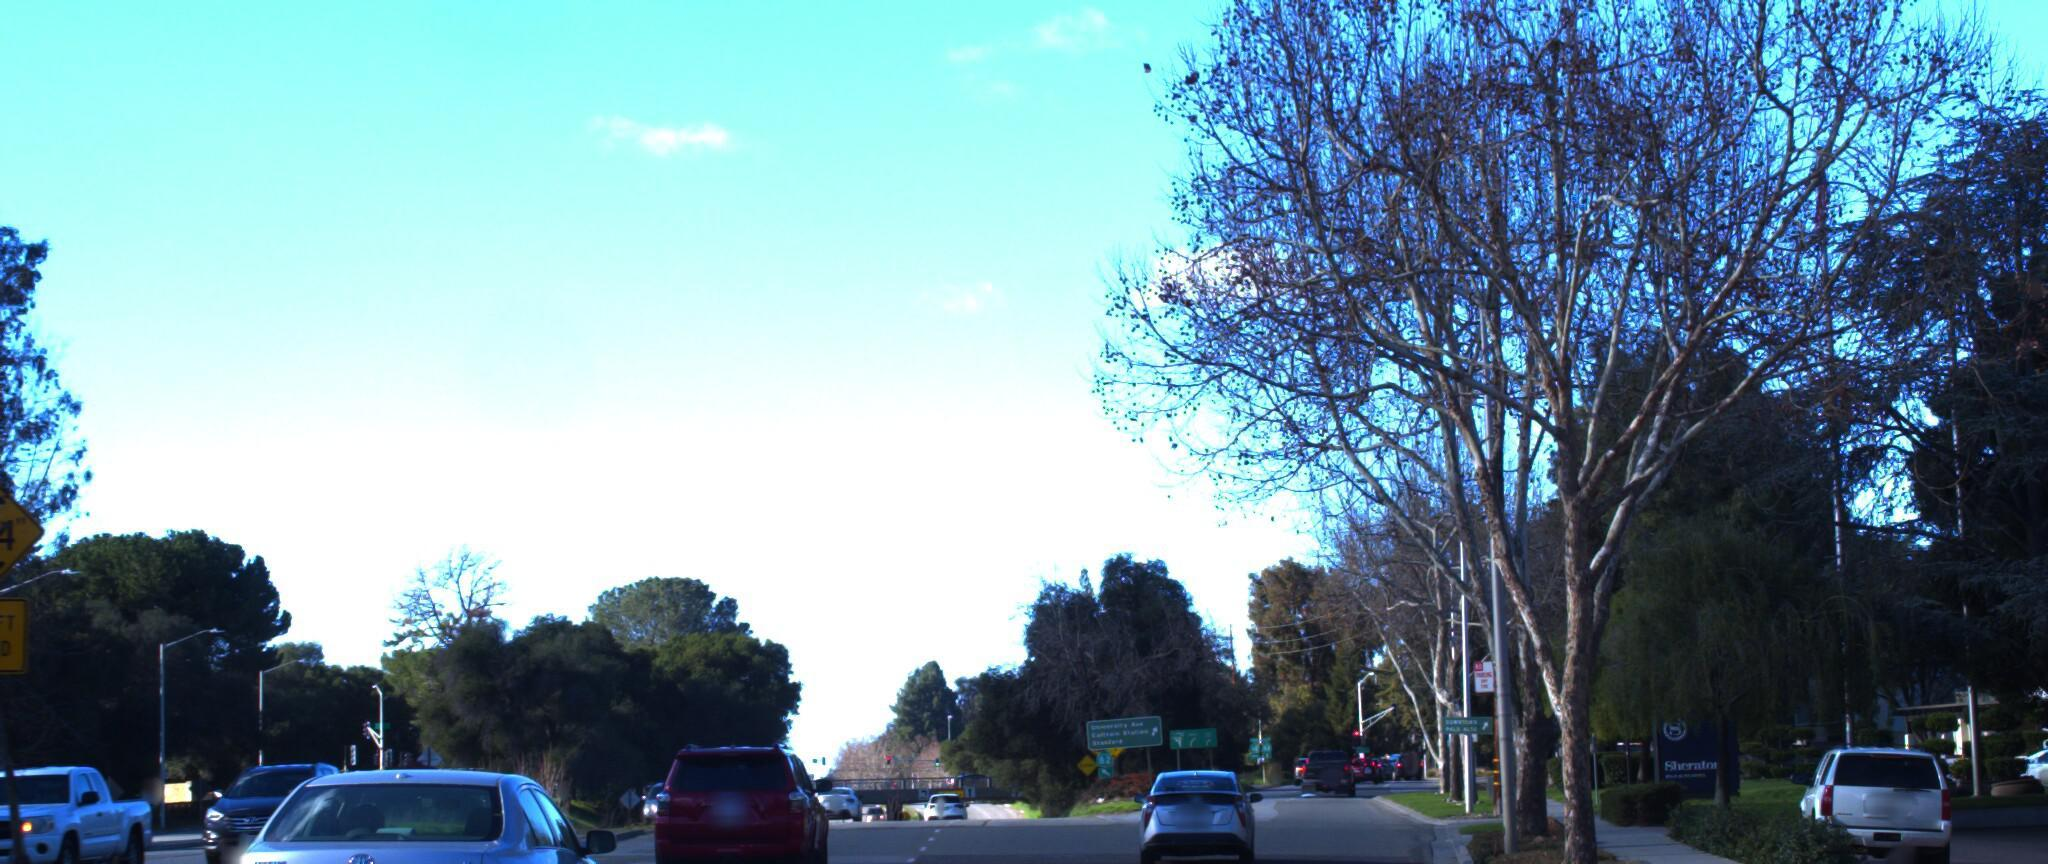car: (202, 731, 643, 864), (643, 723, 839, 864), (1785, 714, 1959, 861), (0, 739, 175, 864), (1125, 754, 1256, 857)
